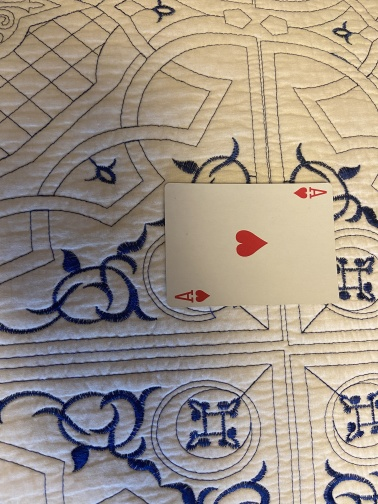ace: (164, 181, 337, 309)
